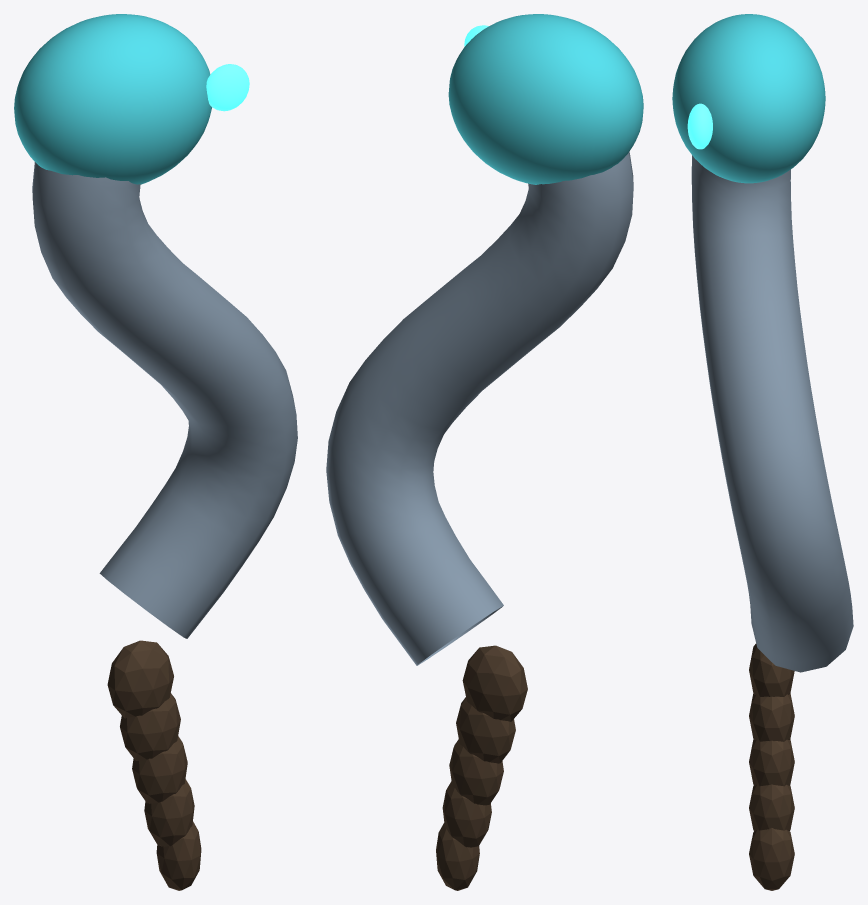
The model's file is serpent_v4.glb.
3 renders of one model, left to right at view 1: azimuth 30°, elevation 25°; view 2: azimuth 150°, elevation 25°; view 3: azimuth 270°, elevation 25°, orthographic. The views are drawn at different scales.
Parts seen in each view (by area): view 1: RATTLER_BODY_PRIMARY, RATTLER_HEAD_ACCENT, RATTLE_SECONDARY, RATTLE_SECONDARY.001, RATTLE_SECONDARY.002, RATTLE_SECONDARY.003, RATTLE_SECONDARY.004, EYE_EMISSIVE.001; view 2: RATTLER_BODY_PRIMARY, RATTLER_HEAD_ACCENT, RATTLE_SECONDARY, RATTLE_SECONDARY.001, RATTLE_SECONDARY.002, RATTLE_SECONDARY.003, RATTLE_SECONDARY.004; view 3: RATTLER_BODY_PRIMARY, RATTLER_HEAD_ACCENT, RATTLE_SECONDARY.004, RATTLE_SECONDARY.001, RATTLE_SECONDARY.002, RATTLE_SECONDARY.003, RATTLE_SECONDARY, EYE_EMISSIVE.001.
Boxes of the visible parts, x1,y1,x2,y2 form: RATTLER_BODY_PRIMARY: (32, 162, 297, 638); RATTLER_HEAD_ACCENT: (14, 14, 211, 184); RATTLE_SECONDARY: (107, 640, 173, 718); RATTLE_SECONDARY.001: (120, 693, 180, 760); RATTLE_SECONDARY.002: (132, 736, 187, 803); RATTLE_SECONDARY.003: (144, 779, 194, 846); RATTLE_SECONDARY.004: (156, 821, 201, 890); EYE_EMISSIVE.001: (206, 64, 249, 111); RATTLER_BODY_PRIMARY: (326, 151, 633, 665); RATTLER_HEAD_ACCENT: (448, 14, 643, 184); RATTLE_SECONDARY: (462, 645, 527, 721); RATTLE_SECONDARY.001: (456, 697, 515, 763); RATTLE_SECONDARY.002: (449, 739, 503, 805); RATTLE_SECONDARY.003: (442, 781, 491, 847); RATTLE_SECONDARY.004: (436, 823, 479, 890); RATTLER_BODY_PRIMARY: (691, 155, 853, 672); RATTLER_HEAD_ACCENT: (672, 14, 825, 183); RATTLE_SECONDARY.004: (749, 828, 794, 890); RATTLE_SECONDARY.001: (749, 693, 794, 741); RATTLE_SECONDARY.002: (749, 739, 794, 786); RATTLE_SECONDARY.003: (749, 784, 794, 831); RATTLE_SECONDARY: (749, 643, 794, 696); EYE_EMISSIVE.001: (687, 103, 712, 149).
Bounding box in the file's own units: 1.2 × 3.59 × 0.7093.
